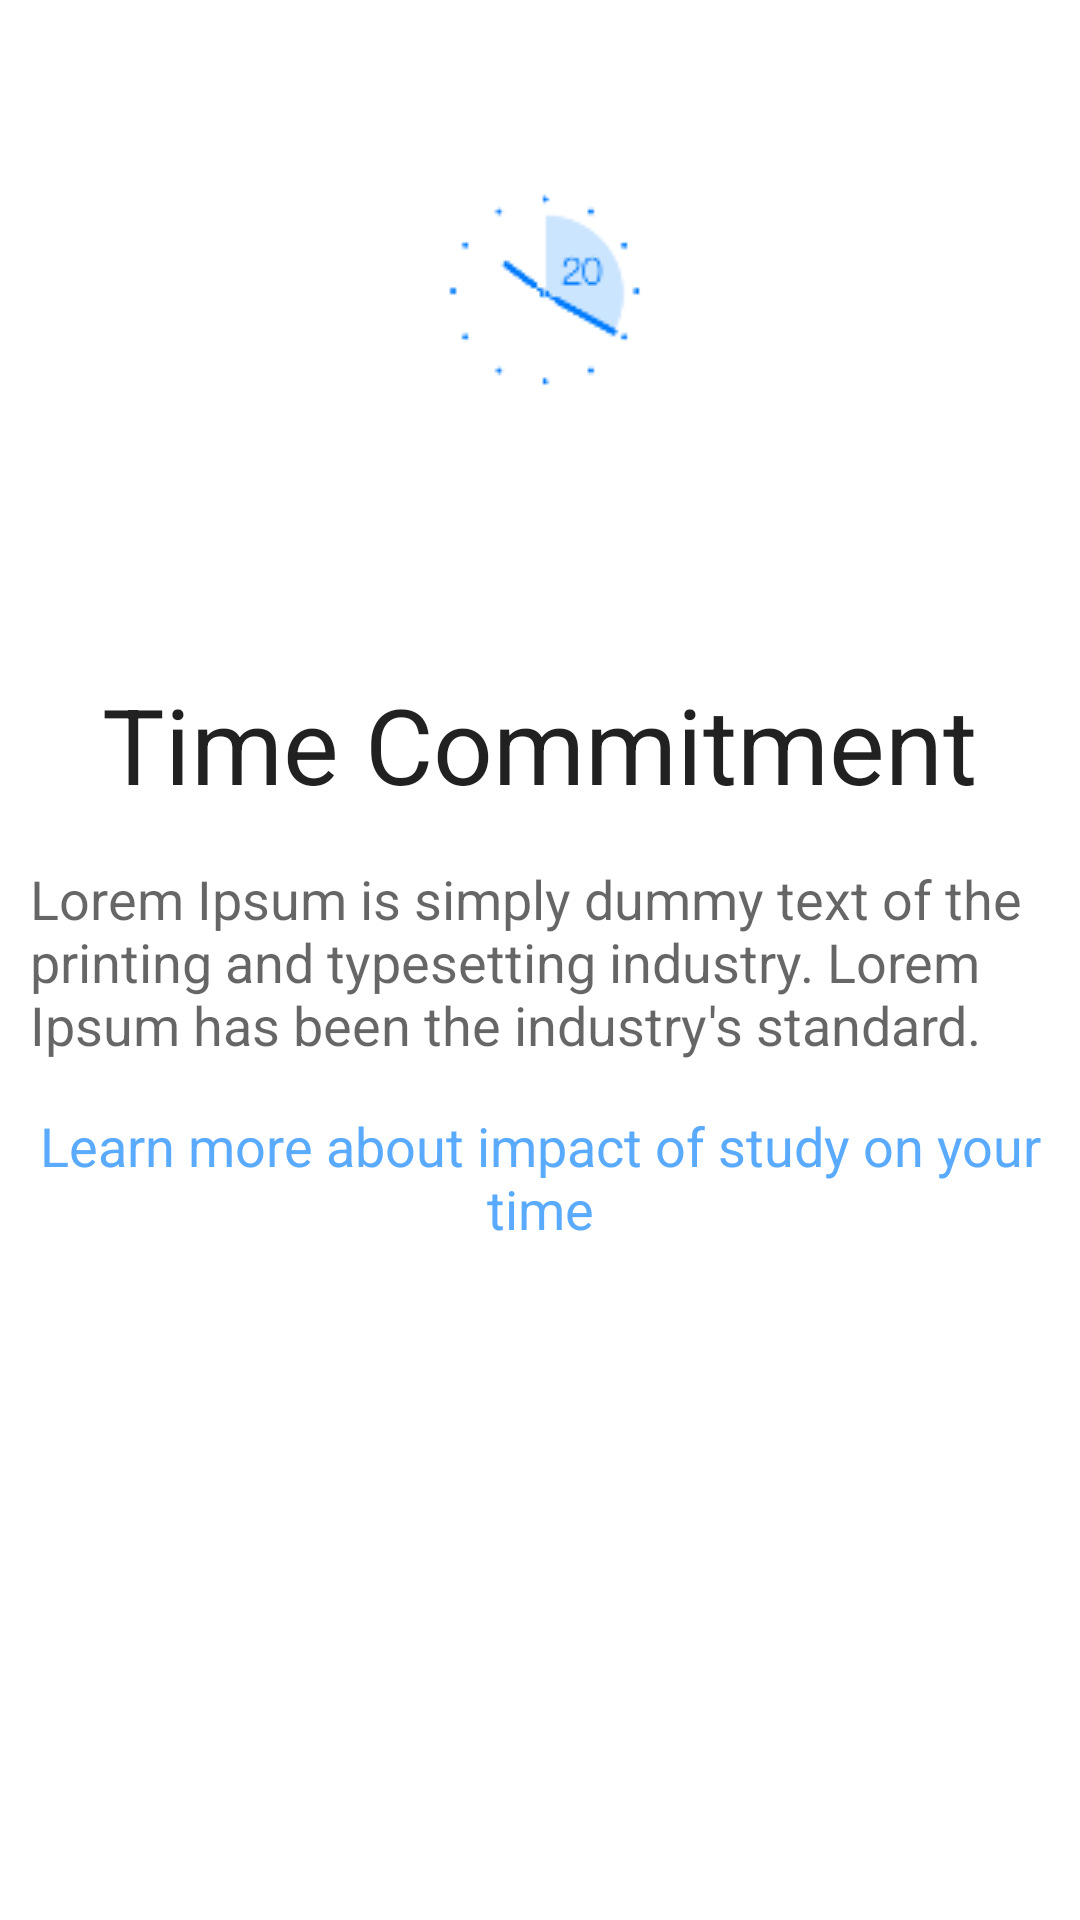

Screen size 1080px×1920px. Icon name, then its center in pixels as [x,y]:
timecommitment: [544,289]
